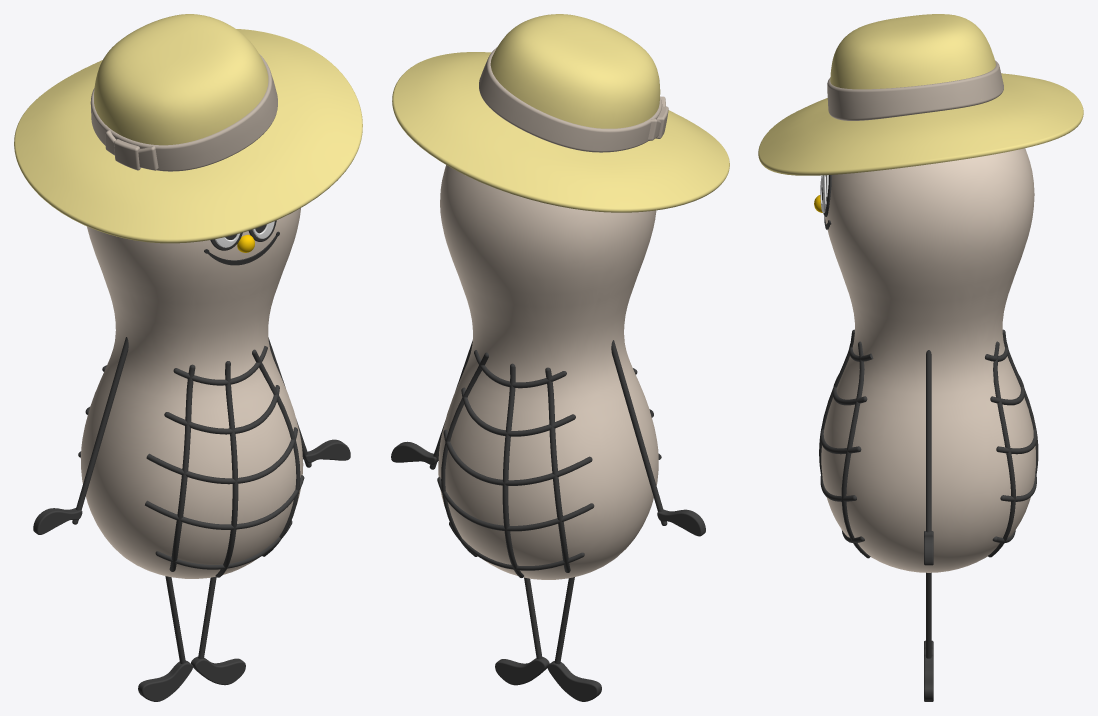
3 views of the same model, side by side, from view 1: azimuth 30°, elevation 25°; view 2: azimuth 150°, elevation 25°; view 3: azimuth 270°, elevation 25° (orthographic).
Visible parts, largest first — view 1: 096_Peanuts; view 2: 096_Peanuts; view 3: 096_Peanuts.
Part boxes in pixels (x1,y1,x2,y2): 096_Peanuts: (14,14,362,701); 096_Peanuts: (391,14,729,701); 096_Peanuts: (758,14,1083,701).
Size of the model in its own units: 0.0734 by 0.1491 by 0.067.
